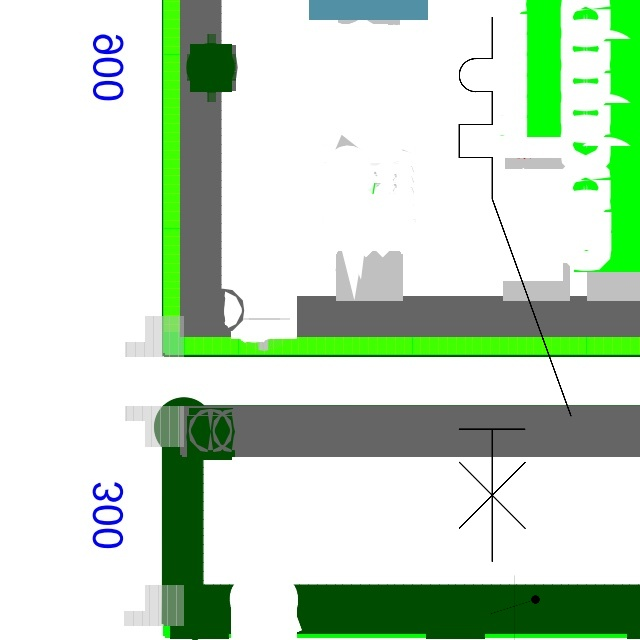interruptor_termomagnetico: (445, 3, 585, 575)
